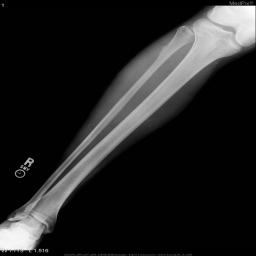cancer: (152, 39, 176, 68)
